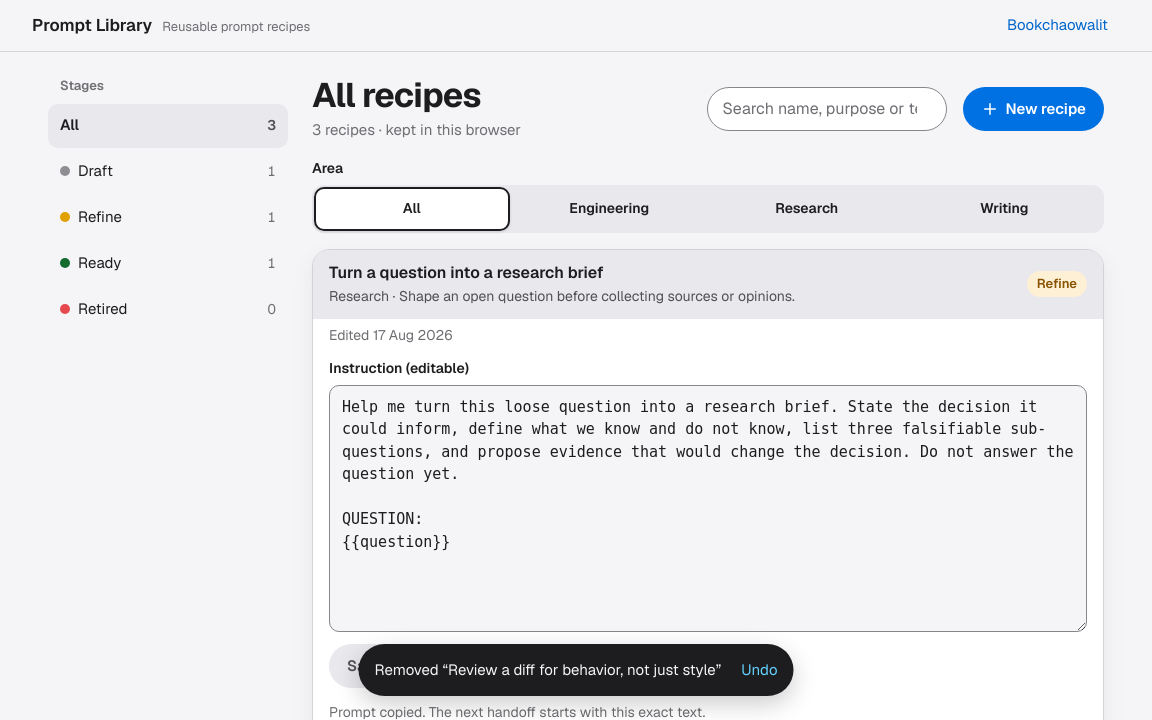
Test: review 2026-11-19 (late) › shows Prompt copied only under the recipe that was copied
Earlier steps of the test are not shown.
Expected: the element that starts with "Edited" shows "Prompt copied.", 329,703 -> 705,719
Click the button "Undo". click: (759, 670)
box: 729,648 -> 790,692
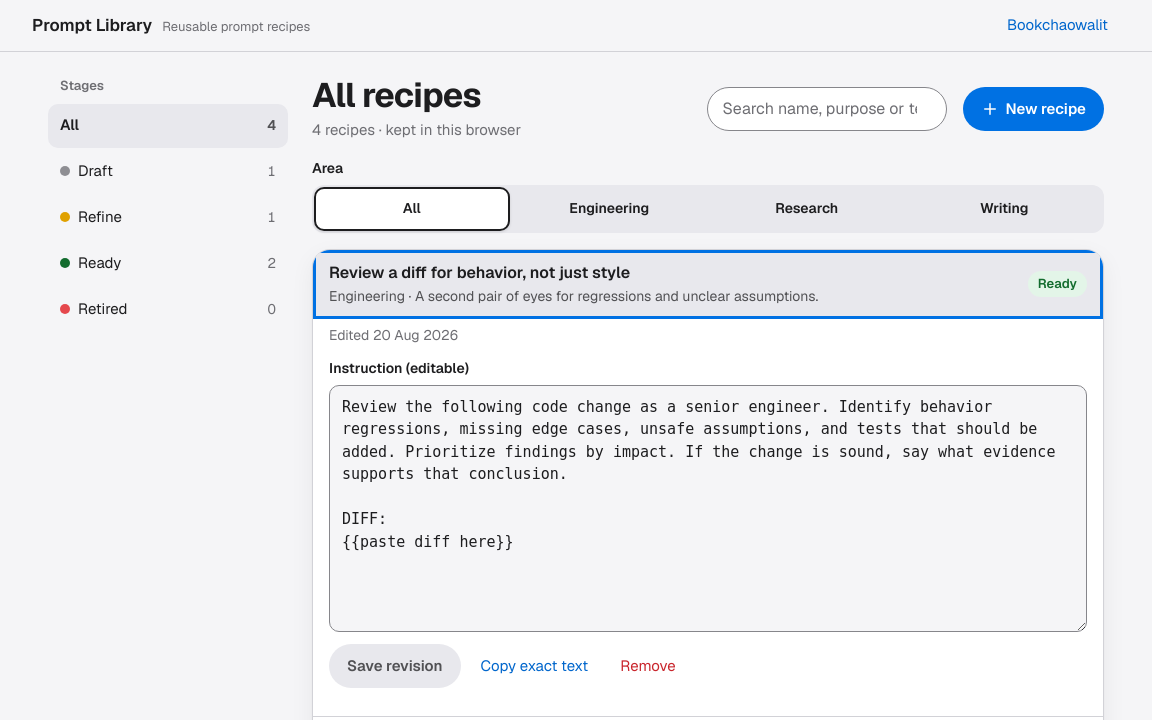
Now the 5th list item shows "Review a diff", box 313,250 -> 1103,319
